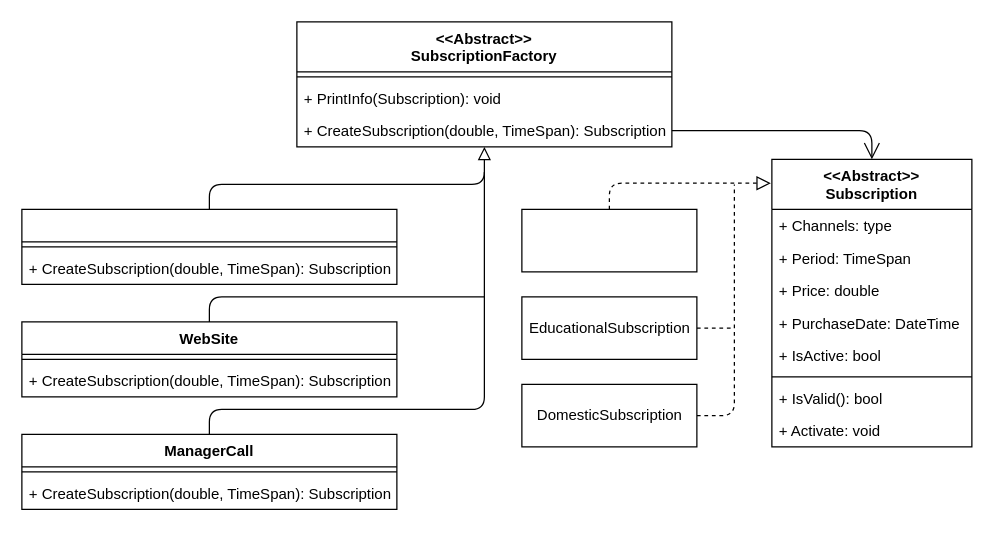
Image size: 994x535. Some labels were removed from this diagram. The box of each missing label's shape, as (x1, y1, x2, y2) in pixels:
MobileApp: (21, 208, 397, 284)
PremiumSubscription: (521, 208, 697, 272)
